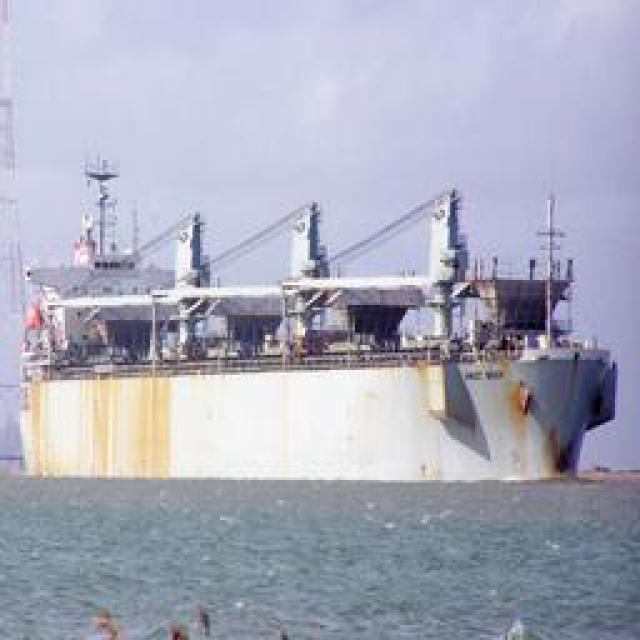Ship: (25, 156, 615, 479)
